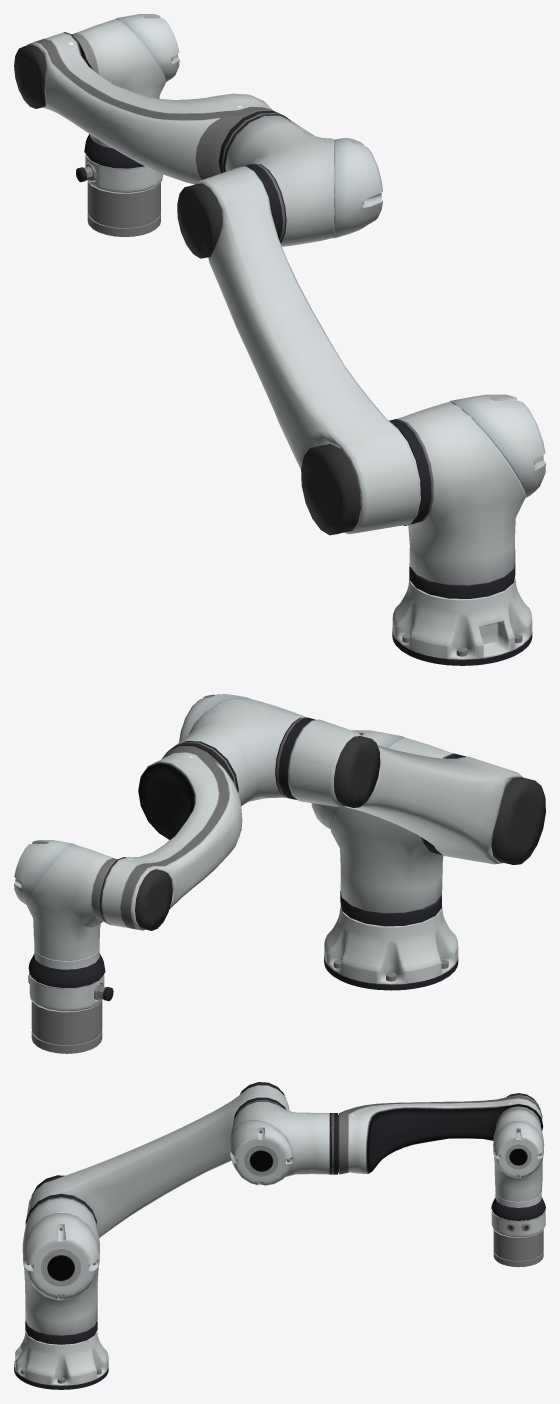
File: RobotArm.glb
3 views of the same model, one above another, from view 1: azimuth 30°, elevation 25°; view 2: azimuth 150°, elevation 25°; view 3: azimuth 270°, elevation 25° (orthographic). The views are drawn at different scales.
Visible parts, largest first — view 1: hand01, hand00, hand03, hand02, hand04, base.009; view 2: hand01, hand04, hand03, hand00, hand02, base.009; view 3: hand01, hand00, hand03, hand04, hand02, base.009.
Boxes of the visible parts, x1,y1,x2,y2 form: hand01: (177, 166, 420, 535); hand00: (389, 394, 545, 598); hand03: (14, 32, 283, 184); hand02: (218, 110, 382, 246); hand04: (72, 14, 179, 236); base.009: (392, 576, 532, 665); hand01: (288, 719, 545, 864); hand04: (14, 840, 117, 1053); hand03: (100, 745, 242, 930); hand00: (311, 730, 466, 926); hand02: (168, 694, 315, 805); base.009: (324, 905, 458, 990); hand01: (26, 1082, 289, 1237); hand00: (22, 1193, 99, 1344); hand03: (338, 1093, 543, 1174); hand04: (491, 1106, 545, 1267); hand02: (229, 1097, 338, 1185); base.009: (14, 1330, 108, 1389).
Size of the model in its own units: 0.808 by 1.44 by 2.72.
1 material, 1 textured.
